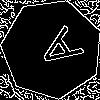A: (27, 24, 84, 78)
